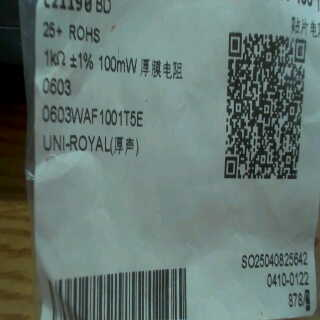1kR: (43, 48, 67, 71)
